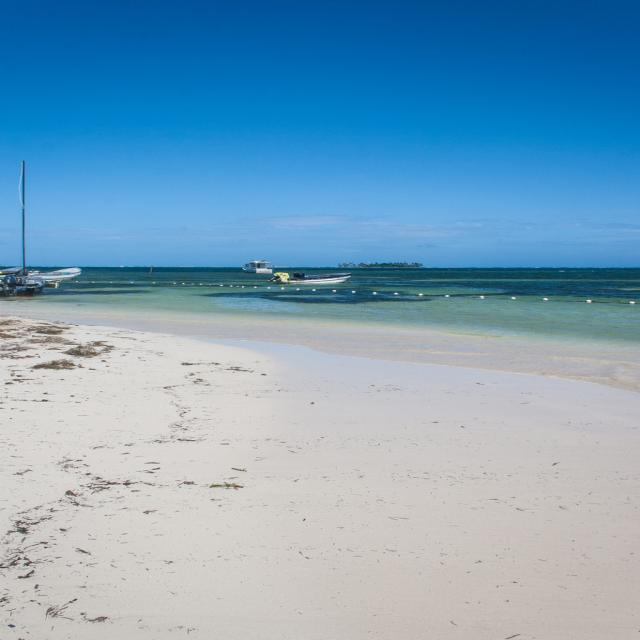Boat: (0, 164, 49, 294), (267, 271, 351, 283), (32, 265, 84, 280), (240, 258, 278, 276), (3, 262, 32, 274)
